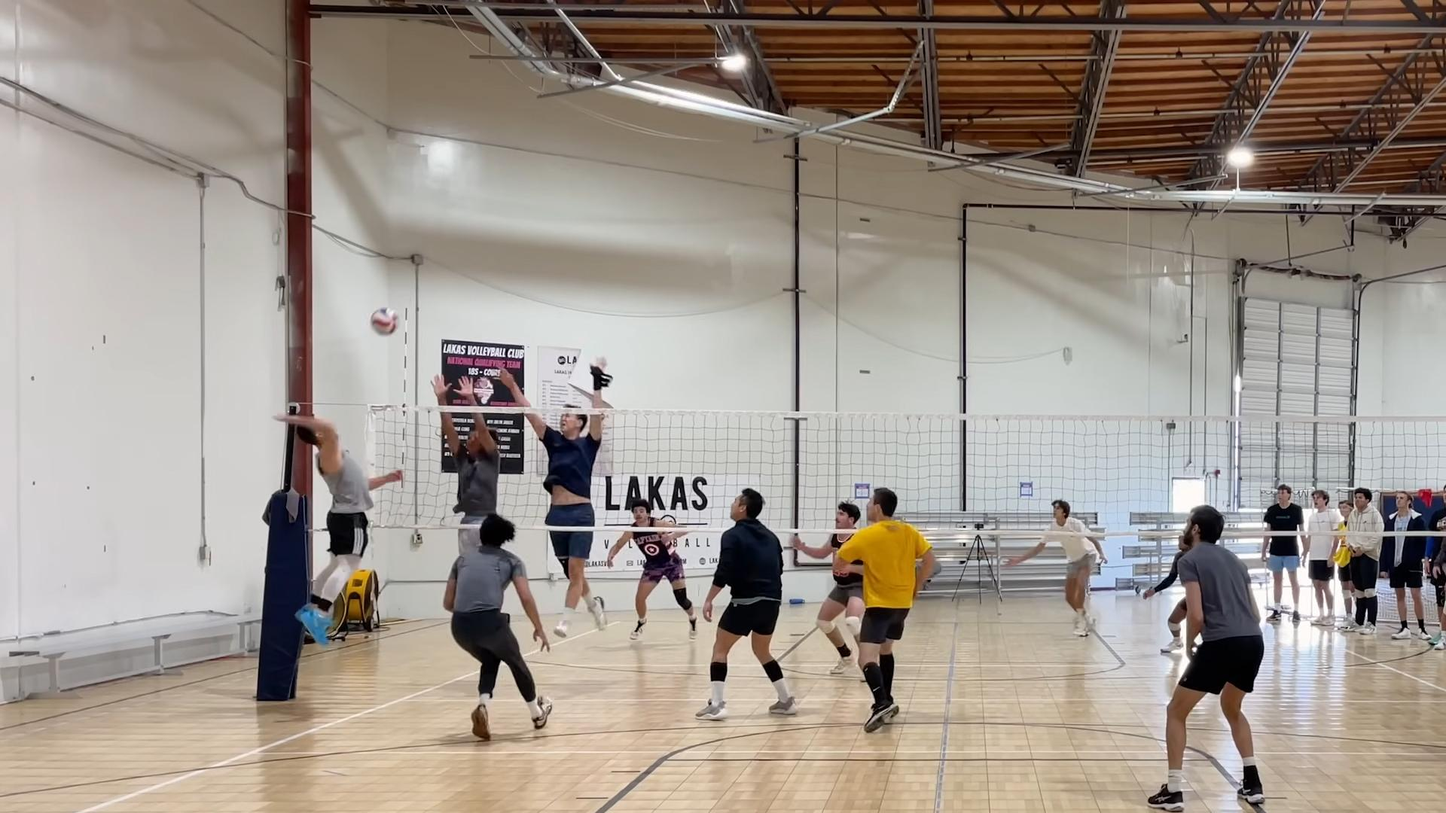attacco: (274, 411, 404, 650)
muro: (495, 354, 621, 640), (428, 368, 505, 627)
